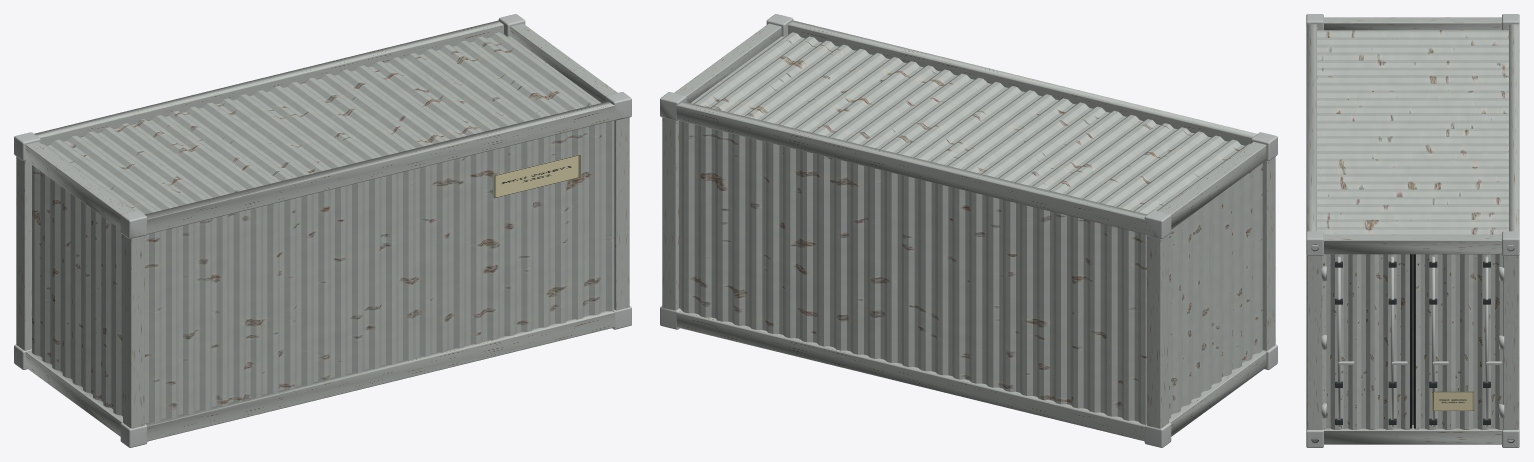
The model's file is container.glb.
3 renders of one model, left to right at view 1: azimuth 30°, elevation 25°; view 2: azimuth 150°, elevation 25°; view 3: azimuth 270°, elevation 25°, orthographic. The views are drawn at different scales.
Visible parts, largest first — view 1: Continuous corrugated side, Corrugated roof, Closed end sheet, Long perimeter rail.001, Long perimeter rail, Long perimeter rail.003, Corner upright, Corner upright.002, Corner upright.001, End perimeter rail.001, End perimeter rail.003, Serial number (+2 smaller); view 2: Continuous corrugated side.001, Corrugated roof, Closed end sheet, Long perimeter rail.003, Long perimeter rail.002, Long perimeter rail.001, Corner upright.001, Corner upright.003, End perimeter rail.001, Corner upright, End perimeter rail.003, End perimeter rail; view 3: Corrugated roof, Cargo door, Cargo door.001, End perimeter rail.003, End perimeter rail.002, Corner upright.002, Corner upright.003, End perimeter rail.001, Long perimeter rail.001, Long perimeter rail.003, Capacity label, Door lock rod (+12 smaller).
Boxes of the visible parts, <box> form: Continuous corrugated side: <box>145,120,614,423</box>; Corrugated roof: <box>42,32,600,214</box>; Closed end sheet: <box>32,165,122,416</box>; Long perimeter rail.001: <box>138,101,623,236</box>; Long perimeter rail: <box>145,311,615,441</box>; Long perimeter rail.003: <box>34,20,503,145</box>; Corner upright: <box>123,234,144,428</box>; Corner upright.002: <box>614,117,629,310</box>; Corner upright.001: <box>16,156,31,350</box>; End perimeter rail.001: <box>25,142,132,229</box>; End perimeter rail.003: <box>510,23,617,102</box>; Serial number: <box>493,154,580,198</box>; Continuous corrugated side.001: <box>679,121,1146,424</box>; Corrugated roof: <box>691,32,1249,214</box>; Closed end sheet: <box>1169,163,1262,419</box>; Long perimeter rail.003: <box>676,101,1153,235</box>; Long perimeter rail.002: <box>676,310,1145,441</box>; Long perimeter rail.001: <box>788,20,1256,145</box>; Corner upright.001: <box>1147,234,1168,428</box>; Corner upright.003: <box>662,117,678,310</box>; End perimeter rail.001: <box>1159,142,1266,229</box>; Corner upright: <box>1262,156,1275,350</box>; End perimeter rail.003: <box>674,23,781,102</box>; End perimeter rail: <box>1169,351,1266,436</box>; Corrugated roof: <box>1317,30,1508,234</box>; Cargo door: <box>1323,254,1409,429</box>; Cargo door.001: <box>1415,254,1502,429</box>; End perimeter rail.003: <box>1313,234,1512,254</box>; End perimeter rail.002: <box>1312,425,1513,444</box>; Corner upright.002: <box>1307,245,1322,439</box>; Corner upright.003: <box>1503,245,1518,439</box>; End perimeter rail.001: <box>1324,17,1508,30</box>; Long perimeter rail.001: <box>1306,24,1316,231</box>; Long perimeter rail.003: <box>1509,24,1519,231</box>; Capacity label: <box>1431,391,1474,410</box>; Door lock rod: <box>1337,256,1340,426</box>.
Size of the model in its own units: 6 by 2.6 by 2.4.
Materials: 1 (1 with a texture image).
